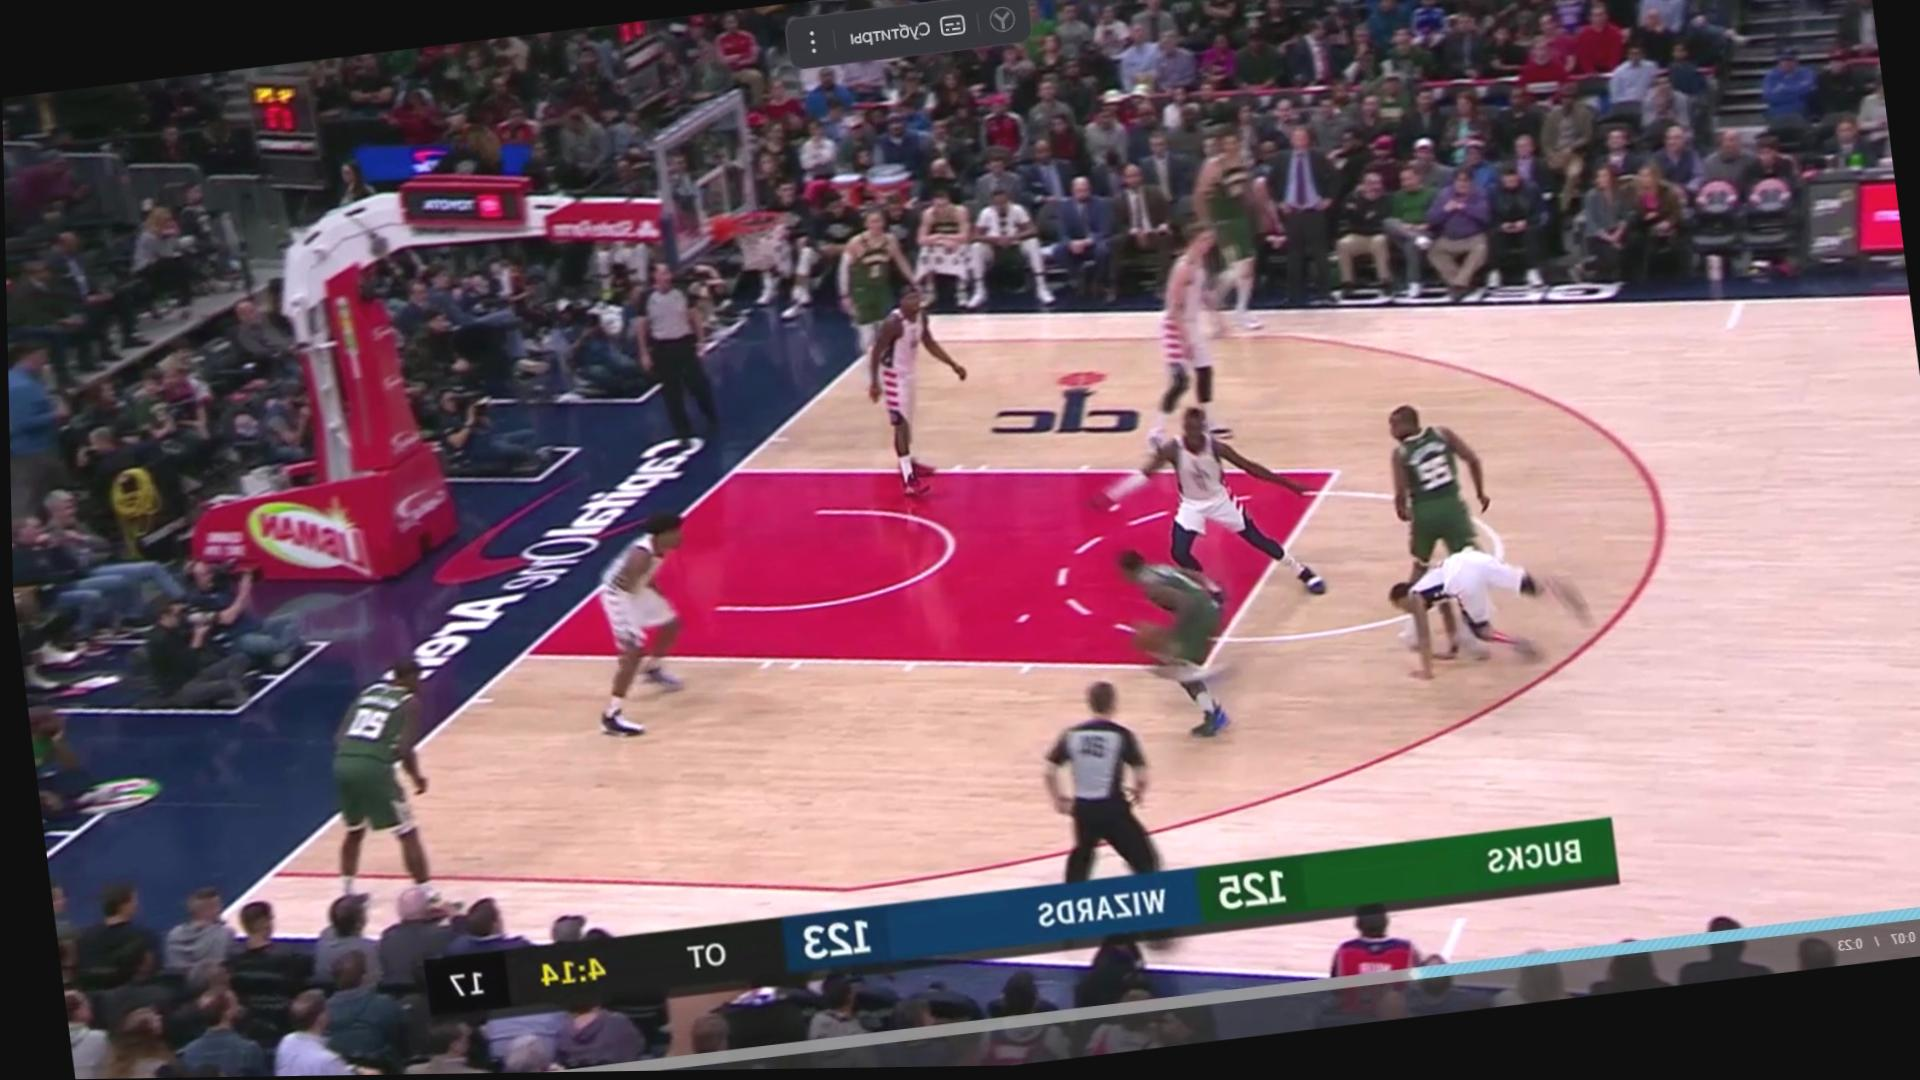foul: (1097, 483, 1643, 735)
